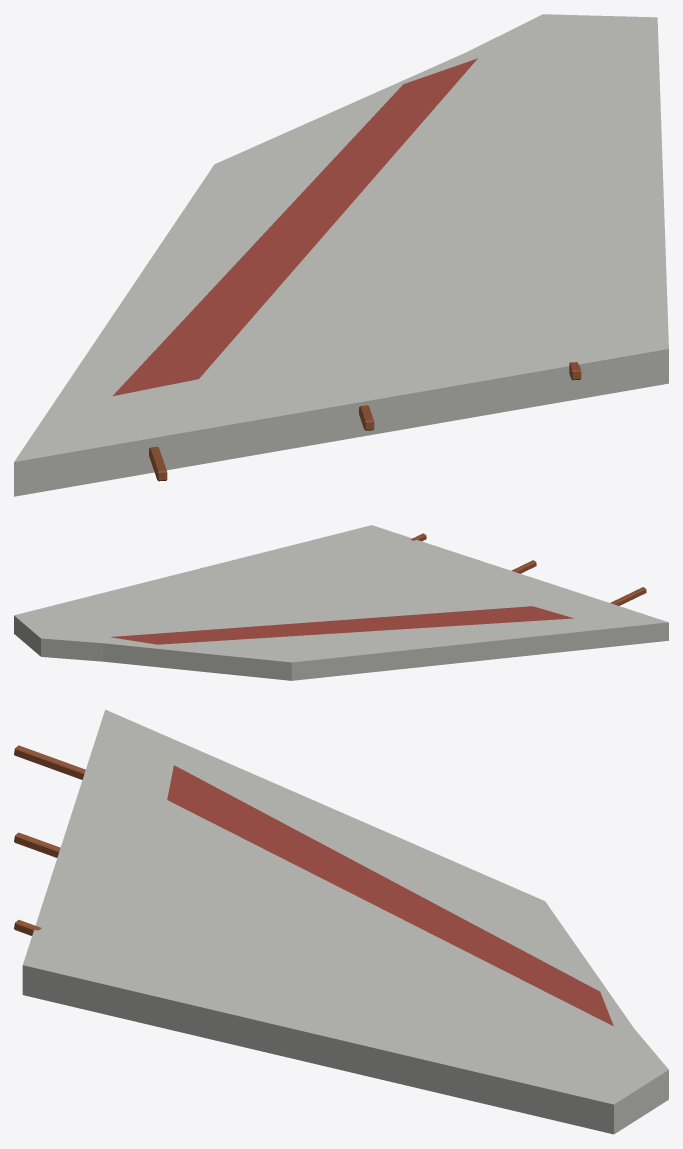
Rendered from Wing_Detached.glb.
The picture shows the model from 3 angles, top to bottom: view 1: azimuth 30°, elevation 25°; view 2: azimuth 150°, elevation 25°; view 3: azimuth 270°, elevation 25°; orthographic projection. The views are drawn at different scales.
Parts seen in each view (by area): view 1: Wing_Detached; view 2: Wing_Detached; view 3: Wing_Detached.
Boxes of the visible parts, x1,y1,x2,y2 form: Wing_Detached: (14, 14, 668, 496); Wing_Detached: (14, 525, 668, 680); Wing_Detached: (14, 709, 668, 1134).
Bounding box in the file's own units: 6.8 × 0.2707 × 4.76.
